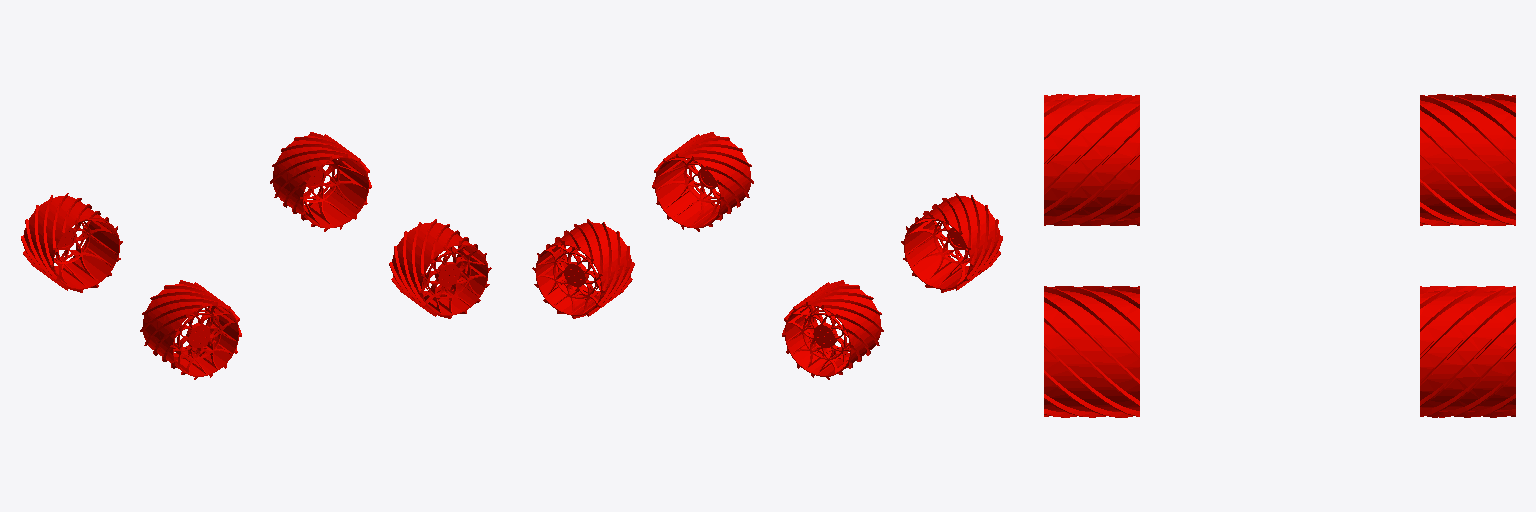
The robot description file, URDF, robot "kanga_core":
<?xml version="1.0" ?>
<!-- Generated using onshape-to-robot -->
<!-- Onshape https://tronsoc.onshape.com/documents/1c492049a2e71feeba4bb134/w/b322db97232ca622375ccdbf/e/3271415db943d39f5acebee7 -->
<robot name="kanga_core">
  <!-- Link base_link -->
  <link name="base_link">
    <inertial>
      <origin xyz="-0.0394422 -0.0149606 -0.0298892" rpy="0 0 0"/>
      <mass value="28"/>
      <inertia ixx="3.05326" ixy="-0.0953345" ixz="0.403632" iyy="4.37258" iyz="0.249778" izz="3.81615"/>
    </inertial>
    <!-- Part kangacore -->
    <visual>
      <origin xyz="-0.0406693 -0 0" rpy="0 -0 1.5708"/>
      <geometry>
        <mesh filename="package://rover_description/assets_kanga_core/kangacore.stl"/>
      </geometry>
      <material name="kangacore_material">
        <color rgba="0.917647 0.917647 0.917647 1"/>
      </material>
    </visual>
    <collision>
      <origin xyz="-0.0406693 -0 0" rpy="0 -0 1.5708"/>
      <geometry>
        <mesh filename="package://rover_description/assets_kanga_core/kangacore.stl"/>
      </geometry>
    </collision>
  </link>
  <!-- Frame top_payload_mount (dummy link + fixed joint) -->
  <link name="top_payload_mount">
    <origin xyz="0 0 0" rpy="0 -0 0"/>
    <inertial>
      <origin xyz="0 0 0" rpy="0 0 0"/>
      <mass value="1e-9"/>
      <inertia ixx="0" ixy="0" ixz="0" iyy="0" iyz="0" izz="0"/>
    </inertial>
  </link>
  <joint name="top_payload_mount_frame" type="fixed">
    <origin xyz="0.379844 -0.1575 0.1216" rpy="0 -0 0"/>
    <parent link="base_link"/>
    <child link="top_payload_mount"/>
    <axis xyz="0 0 0"/>
  </joint>
  <!-- Frame front_payload_mount (dummy link + fixed joint) -->
  <link name="front_payload_mount">
    <origin xyz="0 0 0" rpy="0 -0 0"/>
    <inertial>
      <origin xyz="0 0 0" rpy="0 0 0"/>
      <mass value="1e-9"/>
      <inertia ixx="0" ixy="0" ixz="0" iyy="0" iyz="0" izz="0"/>
    </inertial>
  </link>
  <joint name="front_payload_mount_frame" type="fixed">
    <origin xyz="0.158499 -0 0.0116" rpy="0 -0 0"/>
    <parent link="base_link"/>
    <child link="front_payload_mount"/>
    <axis xyz="0 0 0"/>
  </joint>
  <!-- Link wheelb -->
  <link name="wheelb">
    <inertial>
      <origin xyz="8.20141e-07 4.19108e-07 0.0294338" rpy="0 0 0"/>
      <mass value="0.7"/>
      <inertia ixx="0.00536519" ixy="2.6367e-08" ixz="3.55462e-07" iyy="0.00536521" iyz="7.378e-09" izz="0.00759451"/>
    </inertial>
    <!-- Part wheelb -->
    <visual>
      <origin xyz="0 0 -0.05" rpy="-1.5708 -0 0"/>
      <geometry>
        <mesh filename="package://rover_description/assets_kanga_core/wheelb.stl"/>
      </geometry>
      <material name="wheelb_material">
        <color rgba="0.929412 0.0392157 0 1"/>
      </material>
    </visual>
    <collision>
      <origin xyz="0 0 -0.05" rpy="-1.5708 -0 0"/>
      <geometry>
        <mesh filename="package://rover_description/assets_kanga_core/wheelb.stl"/>
      </geometry>
    </collision>
  </link>
  <!-- Joint from base_link to wheelb -->
  <joint name="wheel1" type="continuous">
    <origin xyz="0.428413 0.395775 -0.271989" rpy="1.5708 0 0"/>
    <parent link="base_link"/>
    <child link="wheelb"/>
    <axis xyz="0 0 1"/>
    <limit effort="0" velocity="0" lower="0" upper="0"/>
  </joint>
  <!-- Link wheel_a -->
  <link name="wheel_a">
    <inertial>
      <origin xyz="1.69548e-06 -4.25166e-07 0.0294802" rpy="0 0 0"/>
      <mass value="0.7"/>
      <inertia ixx="0.0053658" ixy="2.7862e-08" ixz="3.79976e-07" iyy="0.00536582" iyz="-5.263e-09" izz="0.00759416"/>
    </inertial>
    <!-- Part wheel_a -->
    <visual>
      <origin xyz="0 0 -0.05" rpy="-1.5708 0 0"/>
      <geometry>
        <mesh filename="package://rover_description/assets_kanga_core/wheel_a.stl"/>
      </geometry>
      <material name="wheel_a_material">
        <color rgba="0.929412 0.0392157 0 1"/>
      </material>
    </visual>
    <collision>
      <origin xyz="0 0 -0.05" rpy="-1.5708 0 0"/>
      <geometry>
        <mesh filename="package://rover_description/assets_kanga_core/wheel_a.stl"/>
      </geometry>
    </collision>
  </link>
  <!-- Joint from base_link to wheel_a -->
  <joint name="wheel2" type="continuous">
    <origin xyz="-0.430143 0.395775 -0.272479" rpy="1.5708 0 -0"/>
    <parent link="base_link"/>
    <child link="wheel_a"/>
    <axis xyz="0 0 1"/>
    <limit effort="0" velocity="0" lower="0" upper="0"/>
  </joint>
  <!-- Link wheelb_2 -->
  <link name="wheelb_2">
    <inertial>
      <origin xyz="8.20141e-07 4.19108e-07 0.0294338" rpy="0 0 0"/>
      <mass value="0.7"/>
      <inertia ixx="0.00536519" ixy="2.6367e-08" ixz="3.55462e-07" iyy="0.00536521" iyz="7.378e-09" izz="0.00759451"/>
    </inertial>
    <!-- Part wheelb_2 -->
    <visual>
      <origin xyz="0 0 -0.05" rpy="-1.5708 0 0"/>
      <geometry>
        <mesh filename="package://rover_description/assets_kanga_core/wheelb.stl"/>
      </geometry>
      <material name="wheelb_2_material">
        <color rgba="0.929412 0.0392157 0 1"/>
      </material>
    </visual>
    <collision>
      <origin xyz="0 0 -0.05" rpy="-1.5708 0 0"/>
      <geometry>
        <mesh filename="package://rover_description/assets_kanga_core/wheelb.stl"/>
      </geometry>
    </collision>
  </link>
  <!-- Joint from base_link to wheelb_2 -->
  <joint name="wheel3" type="continuous">
    <origin xyz="-0.430143 -0.395725 -0.272479" rpy="1.5708 0 -3.14159"/>
    <parent link="base_link"/>
    <child link="wheelb_2"/>
    <axis xyz="0 0 1"/>
    <limit effort="0" velocity="0" lower="0" upper="0"/>
  </joint>
  <!-- Link wheel_a_2 -->
  <link name="wheel_a_2">
    <inertial>
      <origin xyz="1.69548e-06 -4.25166e-07 0.0294802" rpy="0 0 0"/>
      <mass value="0.7"/>
      <inertia ixx="0.0053658" ixy="2.7862e-08" ixz="3.79976e-07" iyy="0.00536582" iyz="-5.263e-09" izz="0.00759416"/>
    </inertial>
    <!-- Part wheel_a_2 -->
    <visual>
      <origin xyz="0 0 -0.05" rpy="-1.5708 -0 0"/>
      <geometry>
        <mesh filename="package://rover_description/assets_kanga_core/wheel_a.stl"/>
      </geometry>
      <material name="wheel_a_2_material">
        <color rgba="0.929412 0.0392157 0 1"/>
      </material>
    </visual>
    <collision>
      <origin xyz="0 0 -0.05" rpy="-1.5708 -0 0"/>
      <geometry>
        <mesh filename="package://rover_description/assets_kanga_core/wheel_a.stl"/>
      </geometry>
    </collision>
  </link>
  <!-- Joint from base_link to wheel_a_2 -->
  <joint name="wheel4" type="continuous">
    <origin xyz="0.428413 -0.395725 -0.271989" rpy="1.5708 -0 -3.14159"/>
    <parent link="base_link"/>
    <child link="wheel_a_2"/>
    <axis xyz="0 0 1"/>
    <limit effort="0" velocity="0" lower="0" upper="0"/>
  </joint>
</robot>

--- Render facts (derived) ---
The picture shows the robot from 3 angles, left to right: view 1: azimuth 30°, elevation 25°; view 2: azimuth 150°, elevation 25°; view 3: azimuth 270°, elevation 25°; orthographic projection.
Robot: kanga_core — 7 links, 6 joints (4 continuous, 2 fixed); root link base_link; default pose: all joints at 0.
Links seen in each view (by area): view 1: wheelb_2, wheel_a, wheelb, wheel_a_2; view 2: wheel_a, wheelb_2, wheel_a_2, wheelb; view 3: wheel_a, wheel_a_2, wheelb_2, wheelb.
Link boxes in pixels (<box>): wheelb_2: <box>140,280,241,379</box>; wheel_a: <box>21,193,122,292</box>; wheelb: <box>270,132,371,231</box>; wheel_a_2: <box>389,219,491,318</box>; wheel_a: <box>782,280,883,379</box>; wheelb_2: <box>901,193,1002,292</box>; wheel_a_2: <box>652,132,753,231</box>; wheelb: <box>532,219,634,318</box>; wheel_a: <box>1420,94,1515,225</box>; wheel_a_2: <box>1044,286,1139,417</box>; wheelb_2: <box>1044,94,1139,225</box>; wheelb: <box>1420,286,1515,417</box>.
Size in the robot's own frame: 1.11 by 0.8915 by 0.2505 metres.
Meshes: 3 distinct files referenced, 4 mesh visuals loaded (2 binary STL); not drawn: 1 (reference not matched to a file when rendering).
